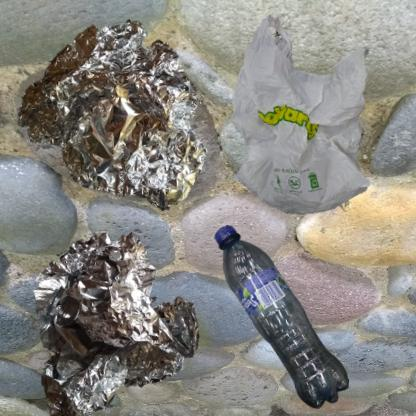aluminio: (10, 213, 226, 416), (10, 10, 219, 214)
bolsa: (213, 10, 407, 239)
botella: (213, 213, 358, 416)
